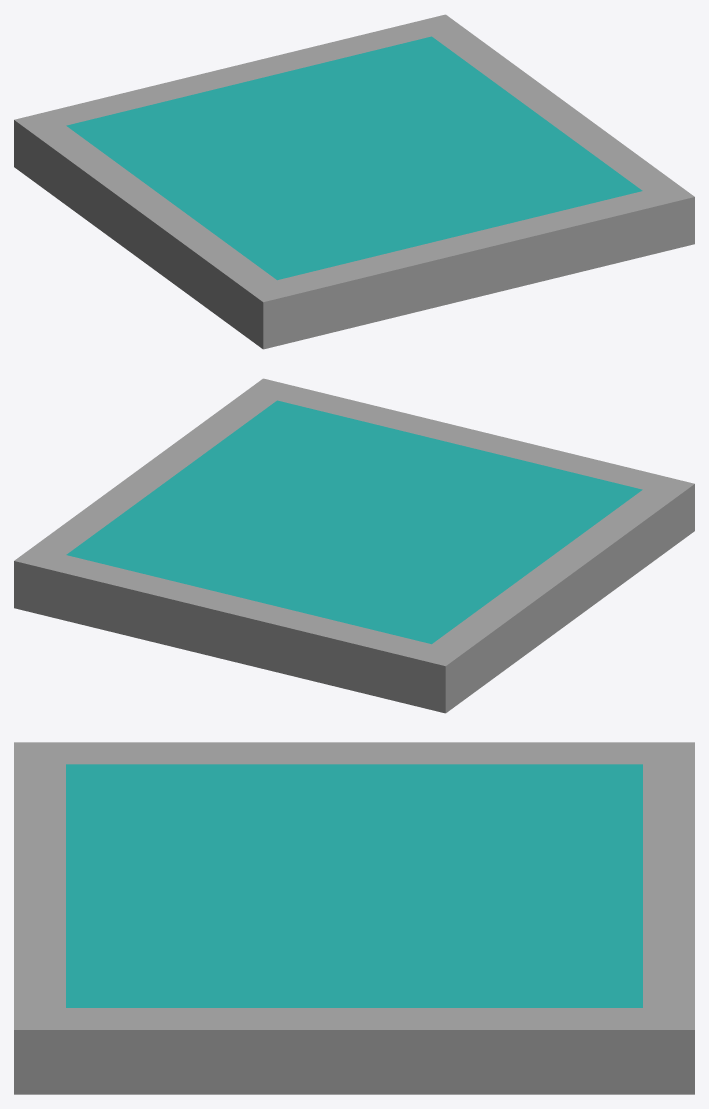
File: Button_Pressed.fbx
3 renders of one model, top to bottom at view 1: azimuth 30°, elevation 25°; view 2: azimuth 150°, elevation 25°; view 3: azimuth 270°, elevation 25°, orthographic. The views are drawn at different scales.
Visible parts, largest first — view 1: button1; view 2: button1; view 3: button1.
Part boxes in pixels (x1=…): button1: x1=14, y1=14, x2=694, y2=349; button1: x1=14, y1=378, x2=694, y2=713; button1: x1=14, y1=742, x2=694, y2=1094.
Size of the model in its own units: 1.7 by 0.1777 by 1.7.
